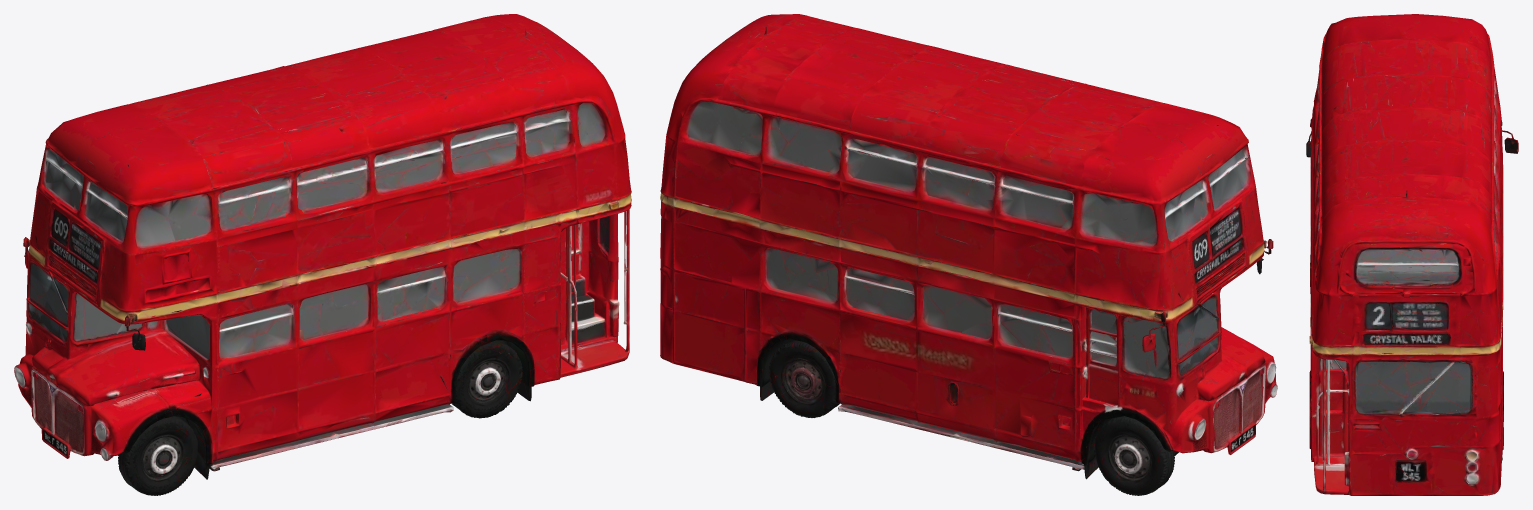
Rendered from bus-SHRINK.glb.
3 renders of one model, left to right at view 1: azimuth 30°, elevation 25°; view 2: azimuth 150°, elevation 25°; view 3: azimuth 270°, elevation 25°, orthographic. The views are drawn at different scales.
Visible parts, largest first — view 1: Mesh_0, Wheel_FL, Wheel_RL; view 2: Mesh_0, Wheel_FR, Wheel_RR; view 3: Mesh_0.
Part boxes in pixels (x1,y1,x2,y2): Mesh_0: [14, 14, 631, 479]; Wheel_FL: [118, 416, 197, 495]; Wheel_RL: [452, 340, 522, 418]; Mesh_0: [660, 14, 1277, 485]; Wheel_FR: [1095, 416, 1174, 495]; Wheel_RR: [769, 339, 839, 417]; Mesh_0: [1306, 14, 1518, 495].
Size of the model in its own units: 1.9 by 1.13 by 0.7203.
1 material, 1 textured.
